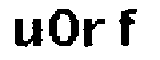0: (46, 3, 79, 50)
f: (113, 6, 142, 50)
r: (80, 17, 107, 49)
u: (9, 17, 43, 49)
